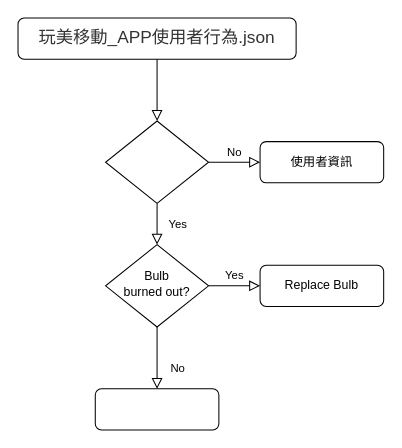
This 402x448 diagram has some shape labels left out. Here are the shapes that lost their labels. From the top down, the centre of each, then its label:
the point at 157,161: 是否是使 用者行為
the point at 156,409: Repair Lamp
